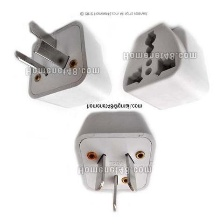three_eye_plug: (9, 16, 114, 112), (71, 109, 155, 215), (121, 20, 212, 107)
